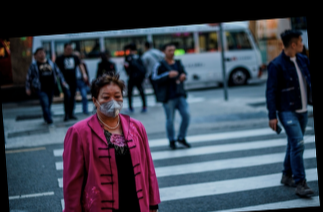with_mask: (98, 89, 124, 118)
without_mask: (296, 35, 305, 53), (166, 46, 176, 58), (65, 44, 74, 55), (37, 50, 46, 60)
